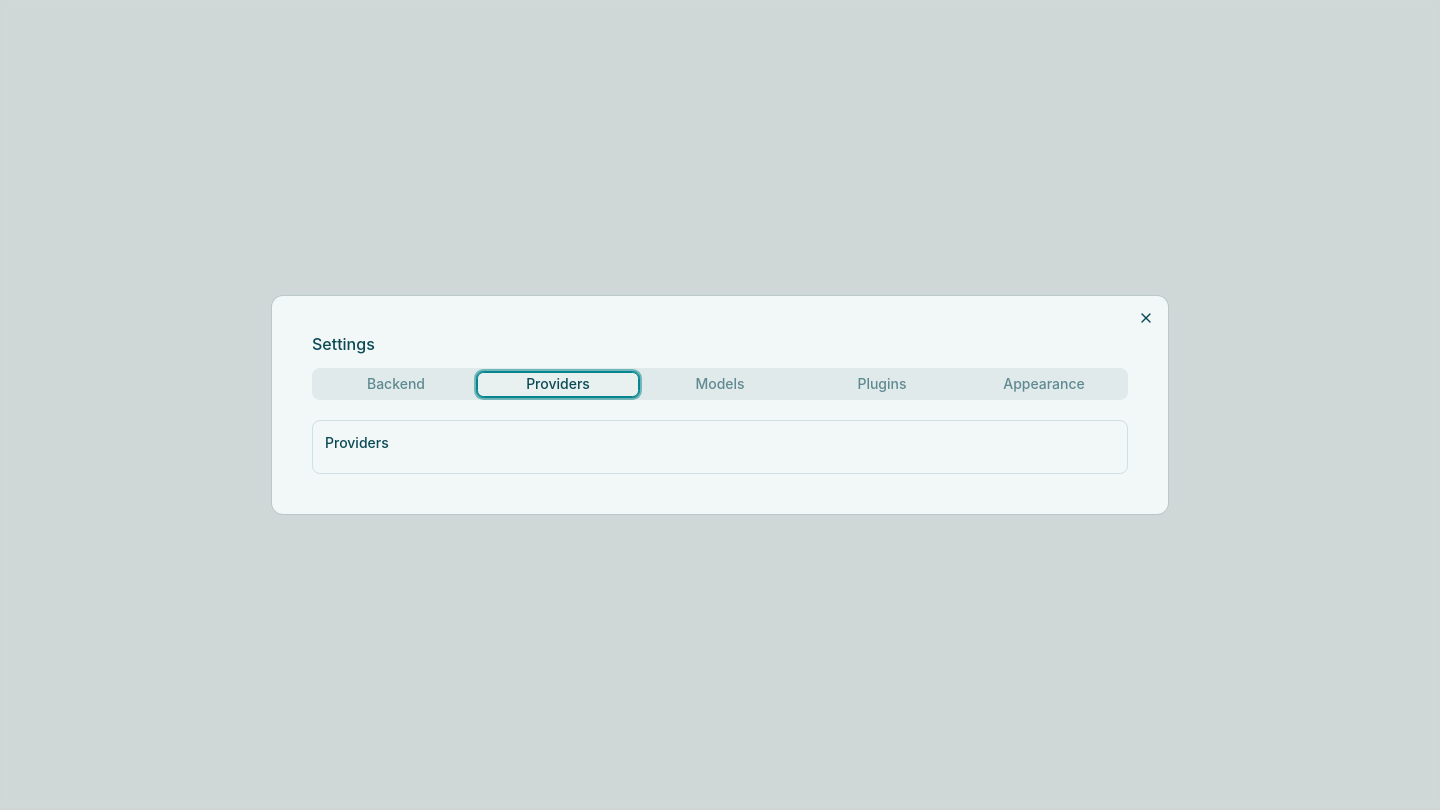
Test: SettingsModal › Models tab renders the Main + Auxiliary (Provider, Model) picker pairs
Click the tab "Models": (720, 384) x1=639 y1=372 x2=801 y2=396
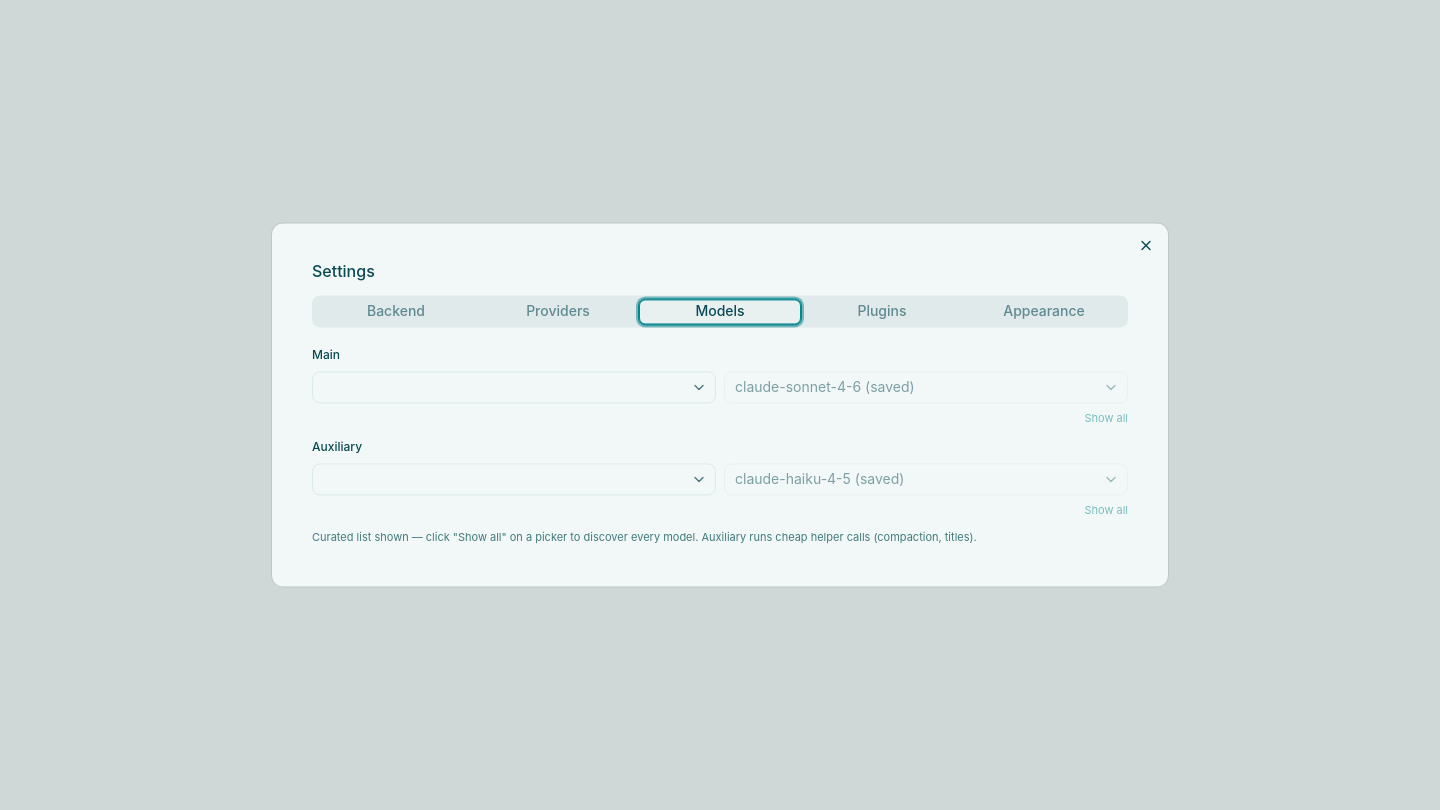
expect the dropdown named "main provider" is shown: met, box x1=312 y1=371 x2=716 y2=403
expect the dropdown named "main model" is shown: met, box x1=724 y1=371 x2=1128 y2=403
expect the dropdown named "auxiliary provider" is shown: met, box x1=312 y1=463 x2=716 y2=495
